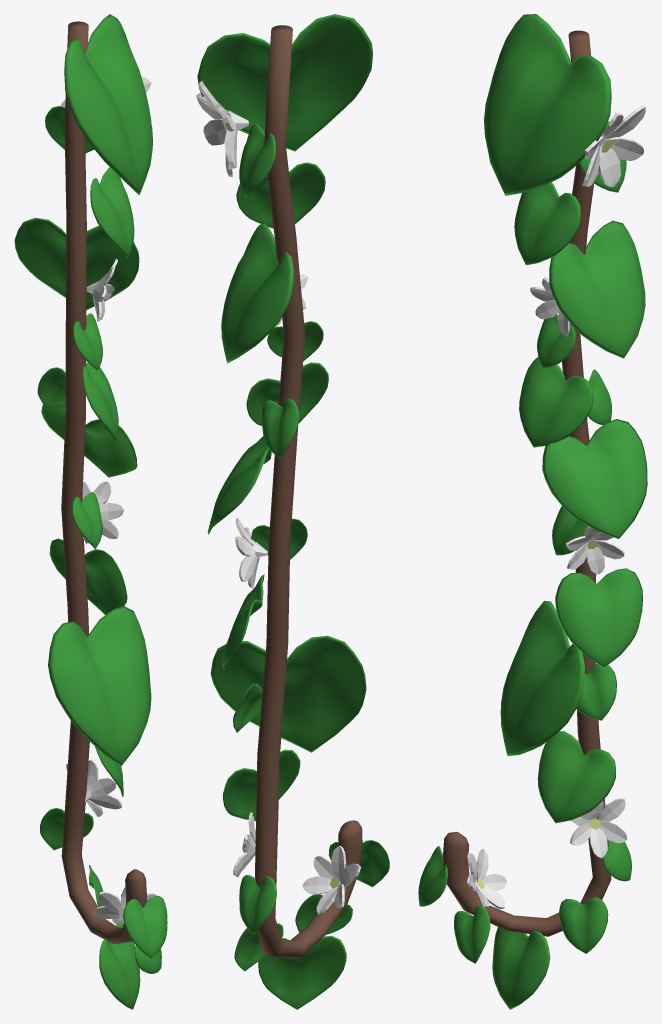
The model's file is vines with flowers 3.glb.
3 renders of one model, left to right at view 1: azimuth 30°, elevation 25°; view 2: azimuth 150°, elevation 25°; view 3: azimuth 270°, elevation 25°, orthographic. The views are drawn at different scales.
Visible parts, largest first — view 1: flower.007; view 2: flower.007; view 3: flower.007.
Boxes of the visible parts, left/top/right/bottom form: flower.007: left=14, top=14, right=167, bottom=1009; flower.007: left=196, top=14, right=389, bottom=1009; flower.007: left=418, top=14, right=647, bottom=1009.
Bounding box in the file's own units: 1.32 × 9.39 × 2.01.
